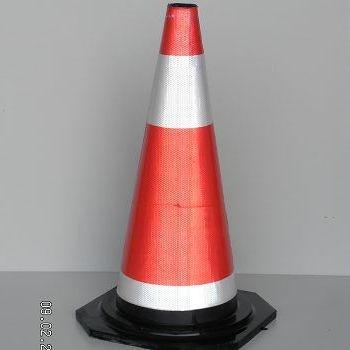cone_barrel: (111, 6, 250, 331)
